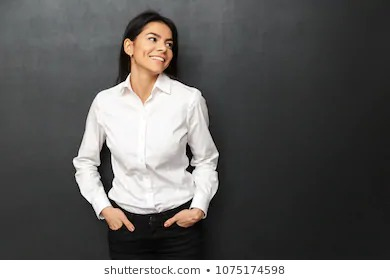F_shirt: (72, 72, 225, 226)
